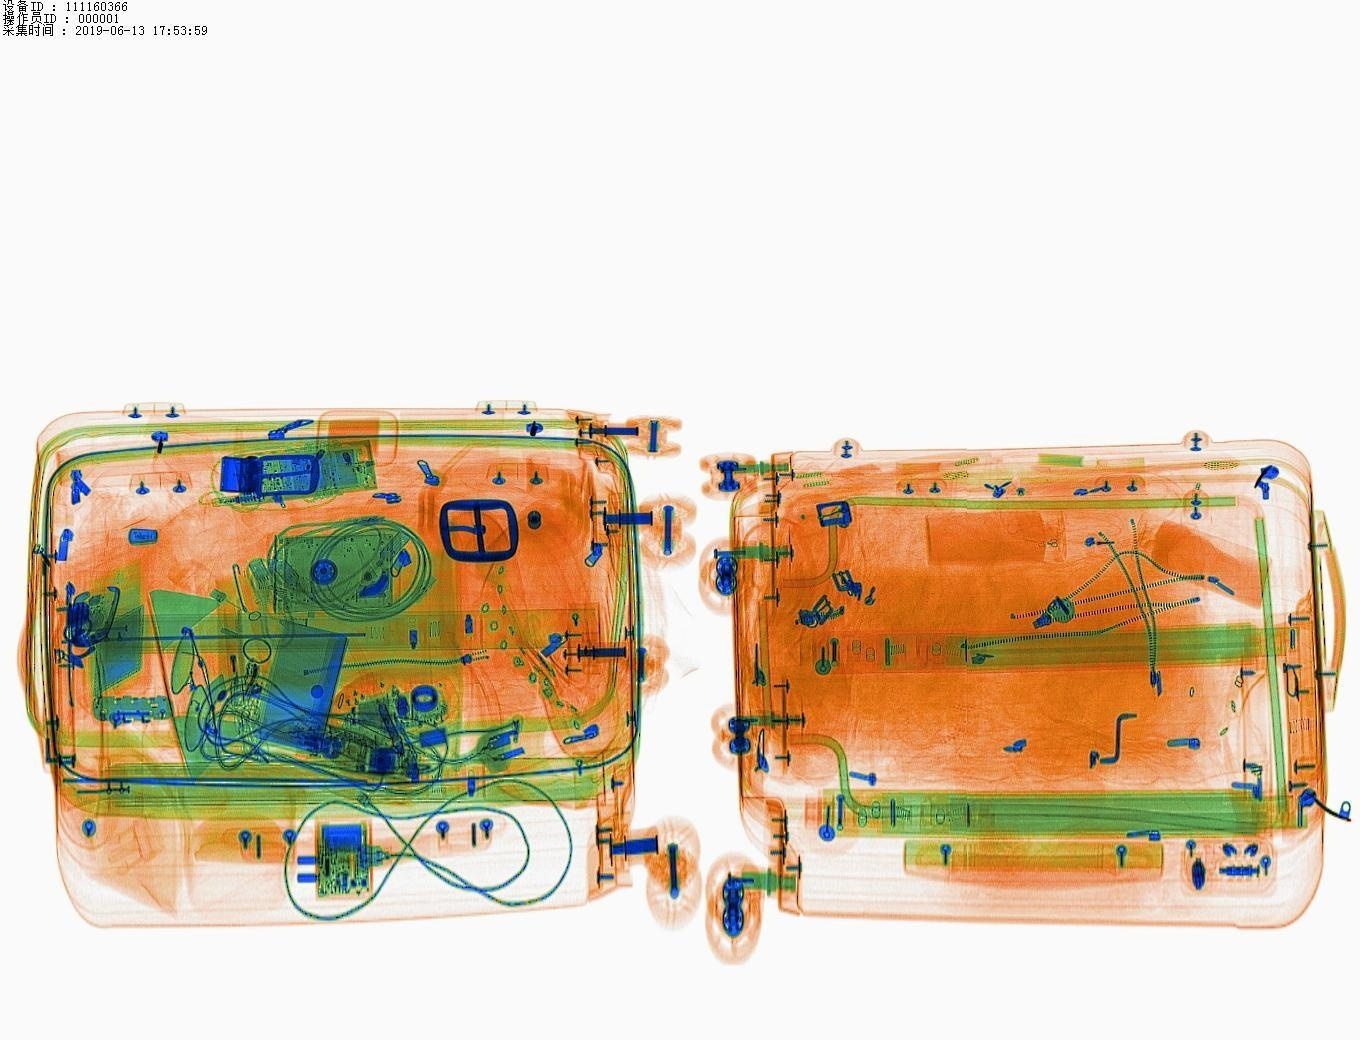NonmetallicFire: (218, 599, 251, 711)
